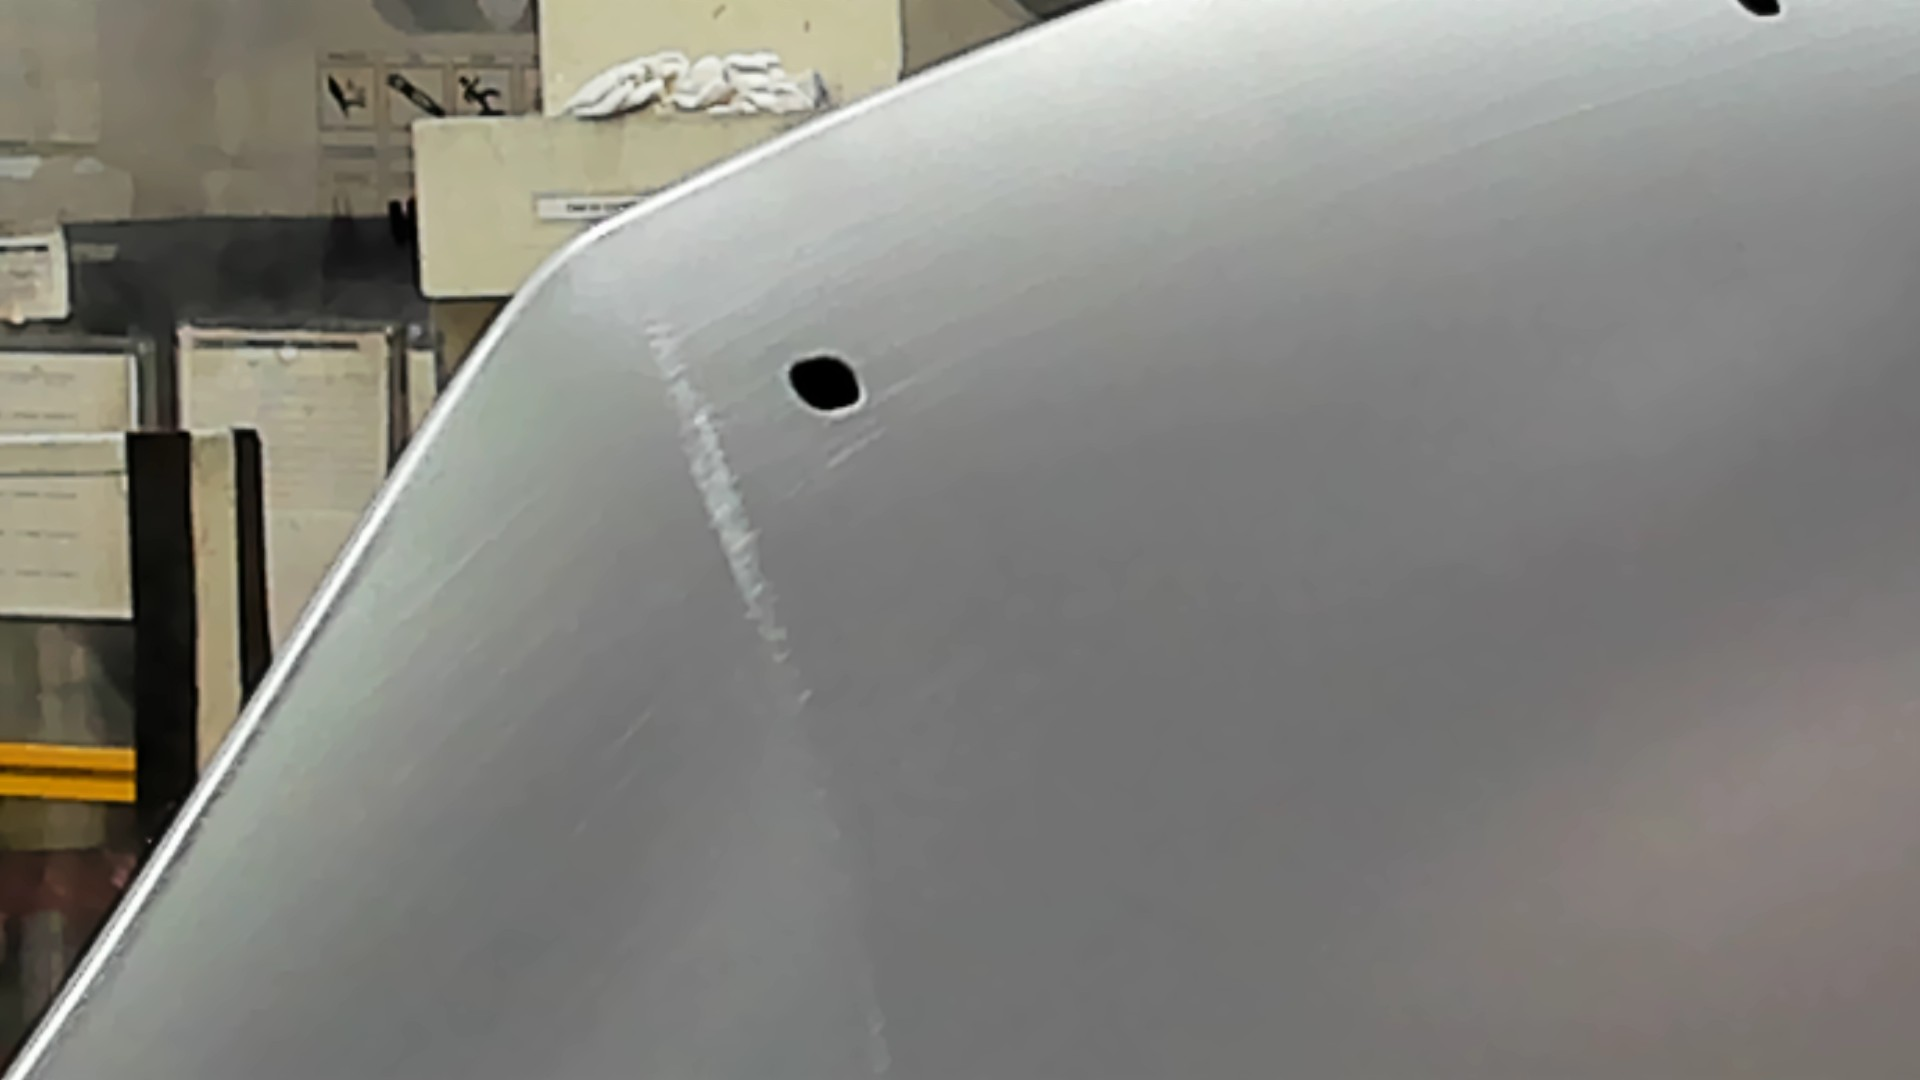amorfo: (781, 345, 880, 425)
capo: (953, 80, 1920, 1080)
